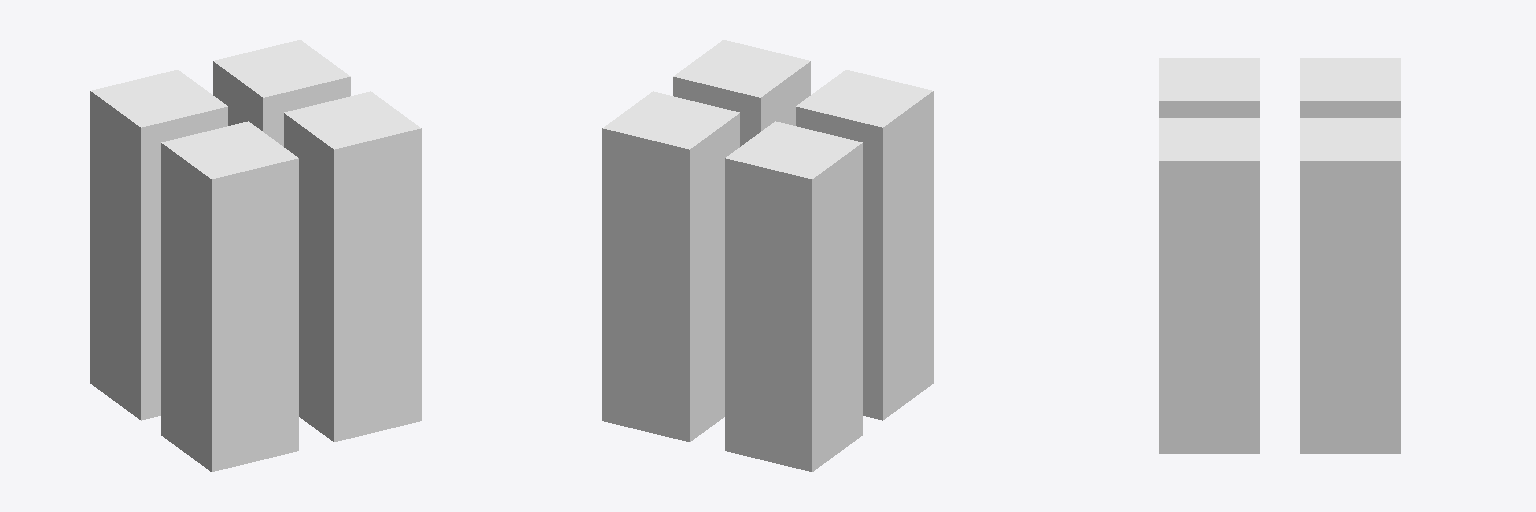
The model's file is msr_control_extension.obj.
3 views of the same model, side by side, from view 1: azimuth 30°, elevation 25°; view 2: azimuth 150°, elevation 25°; view 3: azimuth 270°, elevation 25° (orthographic).
Parts seen in each view (by area): view 1: Side, Top; view 2: Side, Top; view 3: Side, Top.
Part boxes in pixels (x1,y1,x2,y2): Side: (90, 61, 421, 471); Top: (91, 40, 420, 178); Side: (602, 61, 933, 471); Top: (603, 40, 932, 178); Side: (1159, 101, 1400, 453); Top: (1159, 58, 1400, 160).
Size of the model in its own units: 0.75 by 1 by 0.75.